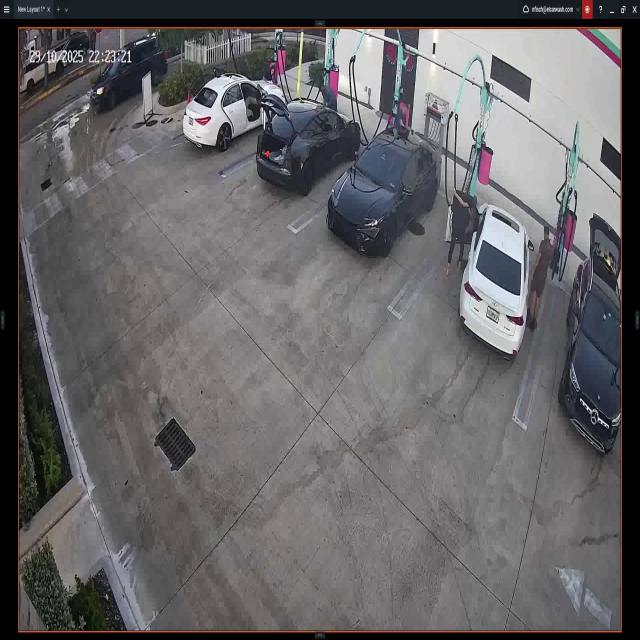Car: (323, 130, 441, 258), (565, 216, 620, 452), (451, 193, 524, 359), (256, 92, 360, 192), (181, 75, 286, 152), (91, 37, 168, 117)
